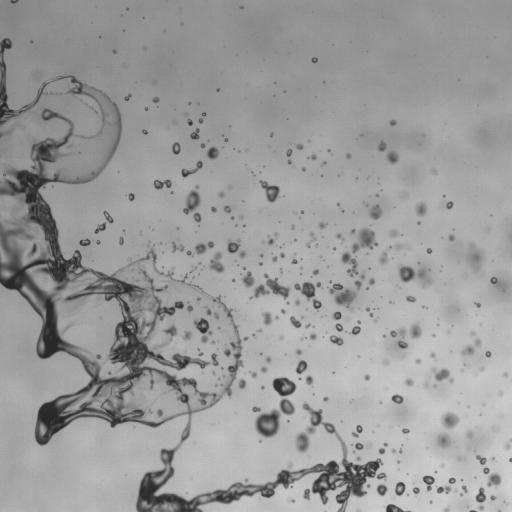droplet: (252, 377, 296, 437), (250, 273, 290, 299), (294, 282, 321, 310), (327, 283, 356, 307), (351, 228, 378, 252), (466, 242, 485, 273), (260, 180, 279, 202), (431, 368, 453, 382), (440, 412, 459, 428), (209, 251, 223, 272), (242, 271, 254, 287), (369, 204, 381, 219), (422, 475, 434, 490), (227, 239, 239, 253), (295, 360, 307, 374), (437, 434, 450, 446), (416, 202, 426, 216), (395, 481, 405, 495), (207, 147, 218, 159), (387, 151, 398, 163), (290, 316, 301, 328), (262, 312, 272, 325), (330, 335, 343, 345), (376, 484, 387, 495), (172, 242, 184, 252), (352, 425, 362, 437), (391, 394, 403, 403), (182, 330, 192, 340), (172, 142, 180, 154), (190, 129, 199, 139), (490, 277, 499, 286), (332, 311, 341, 320), (305, 375, 313, 385), (378, 142, 386, 151), (443, 201, 452, 209), (398, 340, 407, 348), (238, 379, 246, 388), (354, 442, 363, 450), (395, 243, 405, 250), (460, 485, 467, 495), (79, 239, 90, 245), (335, 323, 343, 331), (405, 378, 413, 386), (267, 236, 274, 245), (127, 193, 134, 201), (336, 233, 344, 240), (412, 486, 419, 494), (406, 296, 415, 302), (224, 205, 231, 212), (390, 230, 397, 237), (309, 333, 316, 340), (249, 371, 256, 378), (318, 222, 326, 228), (286, 149, 292, 156), (448, 234, 454, 241), (239, 251, 246, 257), (368, 278, 374, 285), (124, 94, 130, 100), (485, 351, 491, 357), (261, 366, 267, 372), (288, 497, 294, 503), (296, 144, 303, 149), (309, 154, 316, 159), (402, 428, 409, 433), (443, 506, 450, 511), (153, 97, 159, 102), (187, 119, 192, 125), (390, 120, 396, 125), (187, 250, 192, 256), (291, 258, 297, 263), (312, 269, 318, 274), (296, 349, 301, 355), (266, 356, 271, 362), (364, 374, 369, 380), (119, 237, 123, 244), (312, 57, 317, 62), (346, 153, 351, 158), (218, 192, 223, 197), (211, 207, 216, 212), (350, 229, 355, 234), (272, 256, 277, 261), (475, 302, 480, 307), (383, 359, 388, 364), (415, 358, 420, 363), (467, 432, 472, 437), (490, 495, 495, 500), (295, 299, 299, 305), (142, 130, 147, 134), (274, 232, 278, 237), (427, 248, 431, 253), (280, 252, 284, 257), (191, 267, 196, 271), (430, 353, 435, 357), (323, 397, 328, 401), (432, 169, 436, 173), (96, 240, 100, 244), (281, 309, 285, 313), (374, 318, 378, 322), (503, 372, 507, 376), (423, 382, 427, 386), (356, 456, 360, 460), (199, 118, 202, 122), (306, 324, 310, 327), (212, 371, 215, 375), (391, 449, 395, 452), (457, 457, 461, 460), (509, 457, 511, 462), (356, 509, 361, 511), (202, 112, 205, 115), (270, 133, 273, 136), (201, 144, 204, 147), (288, 160, 291, 163), (240, 215, 243, 218), (291, 225, 294, 228), (422, 305, 425, 308), (471, 332, 474, 335), (261, 386, 264, 389), (499, 392, 502, 395), (399, 449, 402, 452), (491, 457, 494, 460), (113, 50, 115, 53), (225, 138, 227, 141), (302, 168, 305, 170), (231, 216, 233, 219), (417, 222, 420, 224), (315, 244, 318, 246), (259, 262, 261, 265), (232, 279, 235, 281), (275, 316, 278, 318), (346, 318, 349, 320), (432, 334, 435, 336), (480, 368, 483, 370), (50, 92, 52, 94), (323, 162, 325, 164), (333, 248, 335, 250), (350, 309, 352, 311), (100, 316, 102, 318), (258, 329, 260, 331), (253, 334, 255, 336), (303, 337, 305, 339), (494, 428, 496, 430), (368, 444, 370, 446), (441, 464, 443, 466), (454, 489, 456, 491)
ligament: (0, 75, 382, 511), (0, 38, 48, 127), (341, 251, 365, 289), (476, 455, 501, 486), (397, 264, 430, 286), (183, 185, 201, 222), (193, 318, 217, 344), (390, 323, 421, 338), (94, 211, 113, 233), (470, 487, 486, 511), (0, 122, 19, 140), (461, 338, 481, 355), (181, 161, 202, 177), (436, 477, 455, 494), (204, 305, 220, 320), (195, 241, 213, 254), (379, 246, 391, 264), (385, 504, 411, 511), (154, 179, 171, 189), (350, 321, 360, 335), (306, 232, 314, 247), (378, 443, 387, 454), (504, 438, 511, 449), (366, 307, 373, 317), (217, 327, 226, 333), (53, 76, 63, 80), (10, 0, 18, 3), (497, 510, 501, 511)
